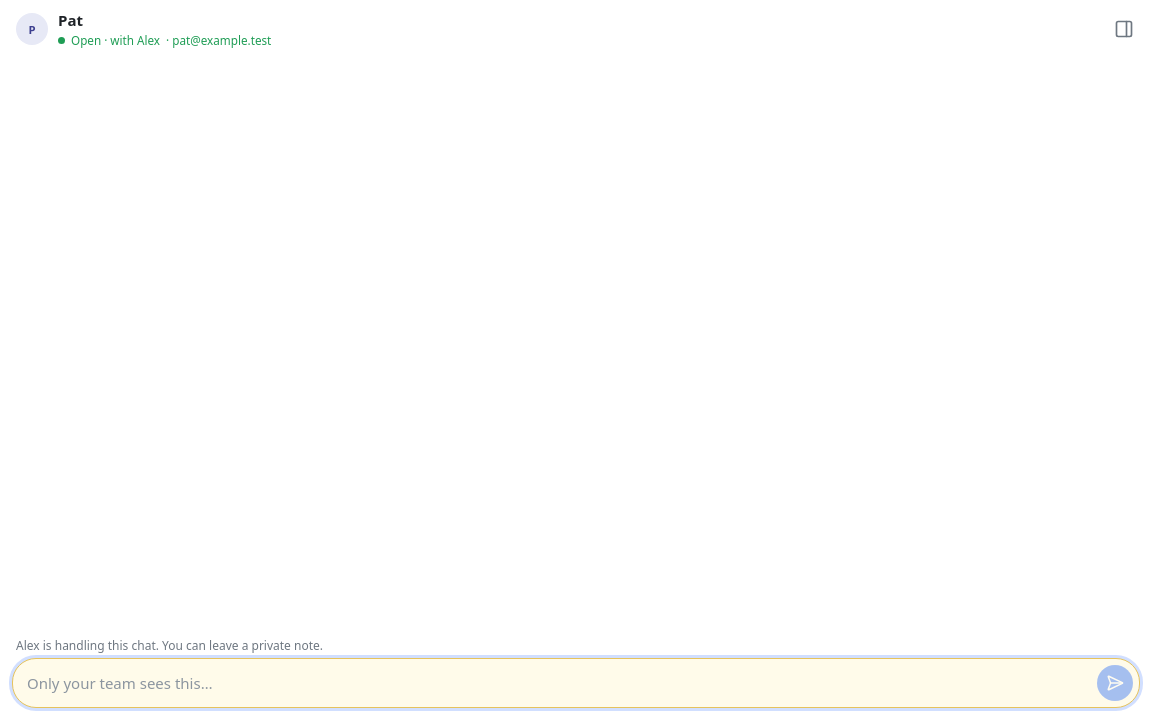
Scenario: ConversationView › only allows a private note on someone else's conversation
The width and height of the screenshot is (1152, 720).
Expected: the text "Alex is handling this chat. You can leave a private note." is shown, [16, 637, 323, 654]
Type "Customer called too" into the text box named "Message" at [558, 684], box [27, 666, 1089, 701]
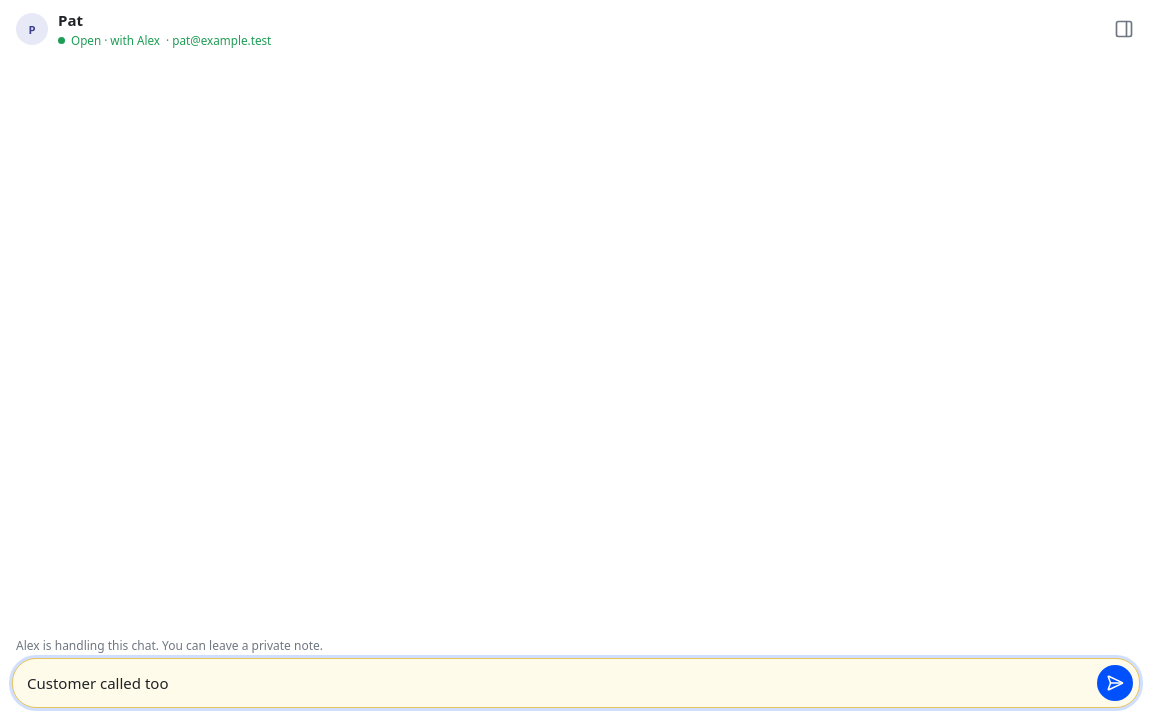
Press Enter in the text box named "Message", box [27, 666, 1089, 701]
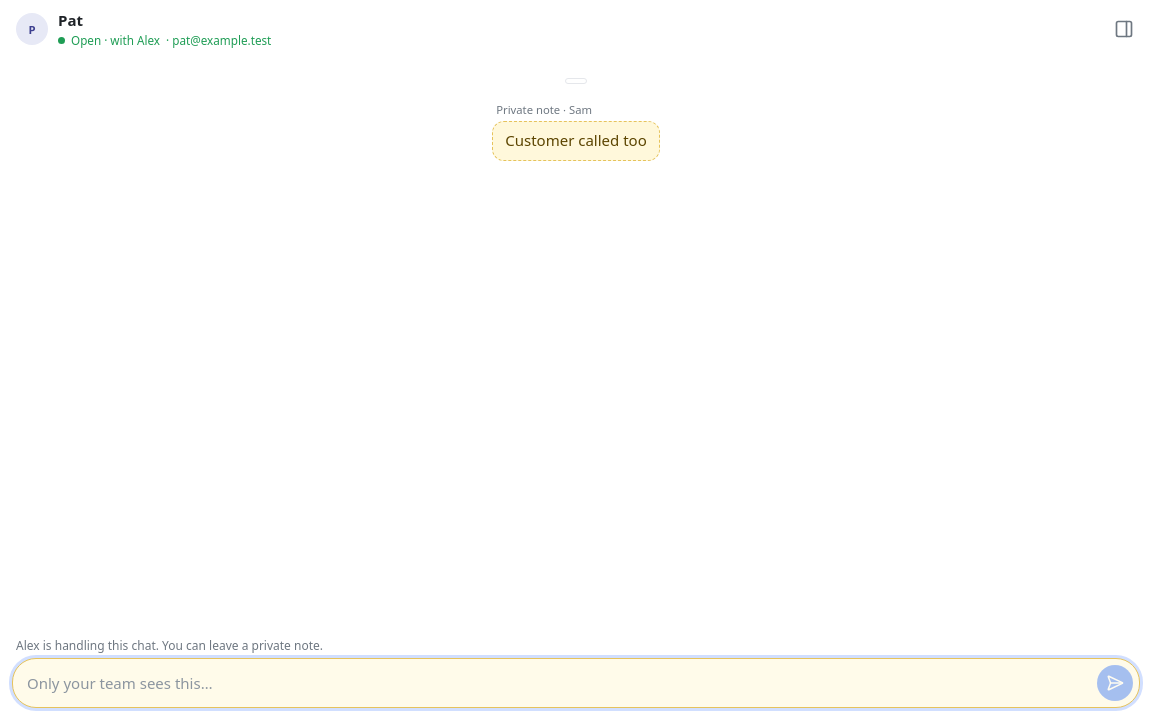
Expected: the text "Private note · Sam" is shown, [496, 102, 592, 117]
